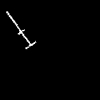double_crochet: (6, 12, 34, 48)
